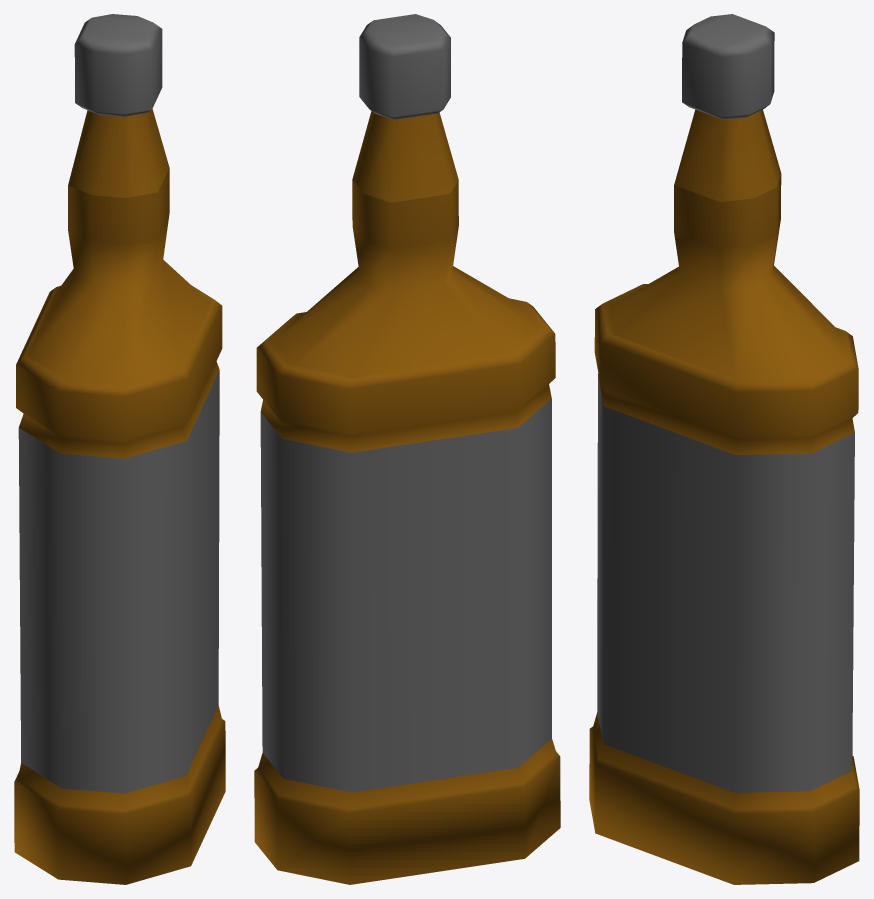
File: Wisky.fbx
3 views of the same model, side by side, from view 1: azimuth 30°, elevation 25°; view 2: azimuth 150°, elevation 25°; view 3: azimuth 270°, elevation 25° (orthographic).
Parts seen in each view (by area): view 1: Wisky1; view 2: Wisky1; view 3: Wisky1.
Boxes of the visible parts, box(x1,y1,x2,y2) form: Wisky1: box(14, 14, 225, 884); Wisky1: box(254, 14, 560, 884); Wisky1: box(589, 14, 859, 884).
Size of the model in its own units: 8.87 by 30.41 by 9.3.
